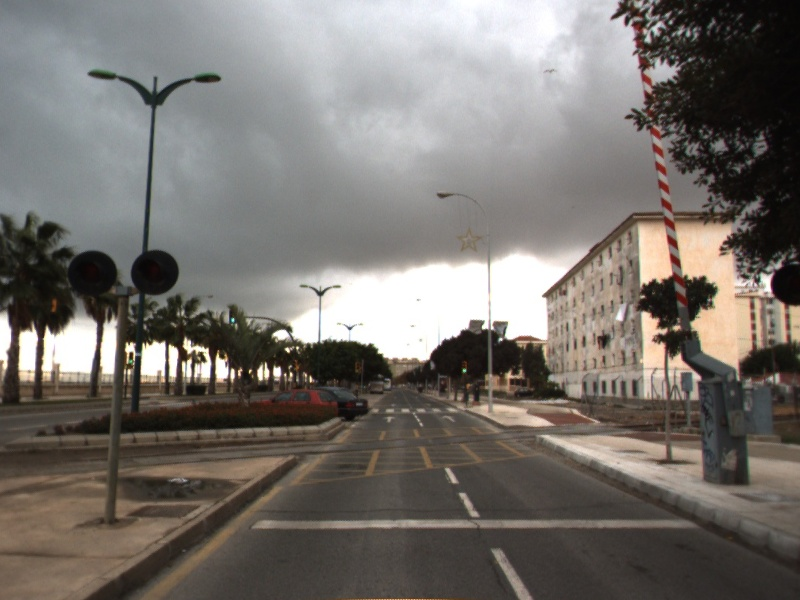STRAIGHT: (440, 413, 458, 424), (380, 414, 398, 424)
